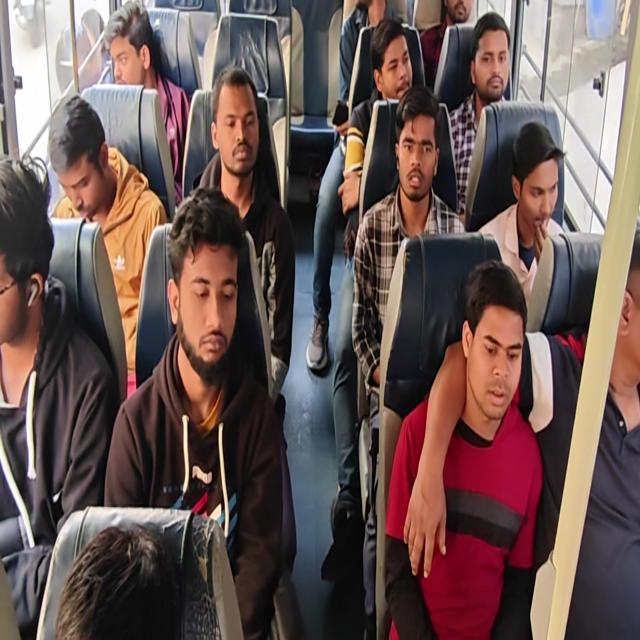person: (1, 1, 638, 638), (416, 220, 640, 638), (103, 185, 285, 638), (350, 84, 468, 637), (383, 259, 543, 638), (0, 155, 118, 638), (324, 12, 414, 566), (546, 221, 640, 638), (190, 63, 296, 404), (47, 94, 168, 391), (306, 1, 394, 371), (338, 17, 413, 262), (102, 0, 190, 206), (477, 120, 567, 316), (55, 522, 182, 639), (448, 12, 511, 217), (333, 0, 391, 143), (419, 0, 473, 91)
